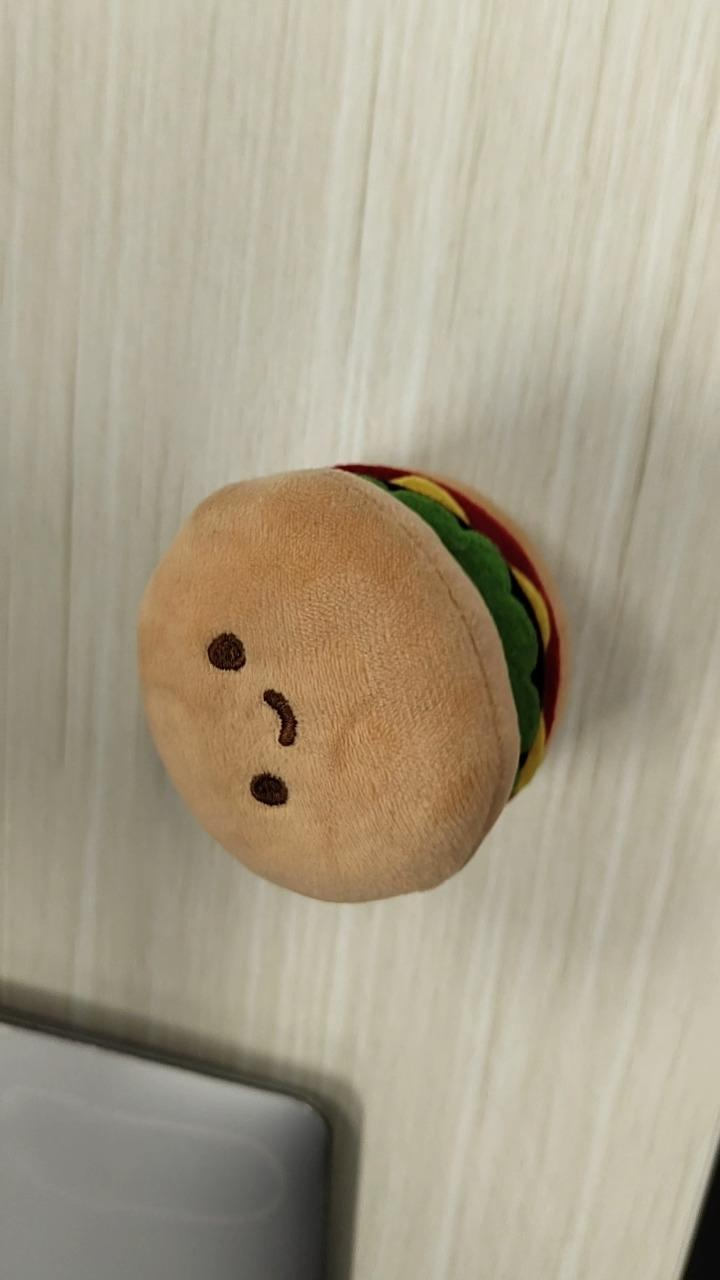hamburger: (135, 460, 568, 904)
